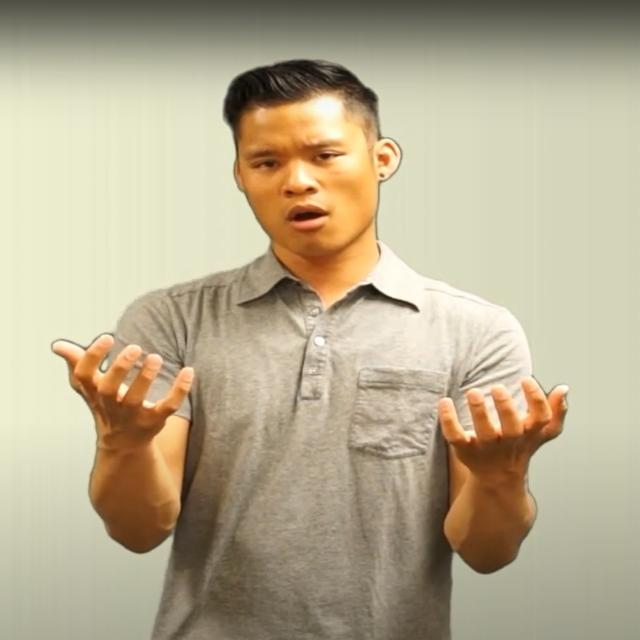want: (51, 333, 570, 469)
